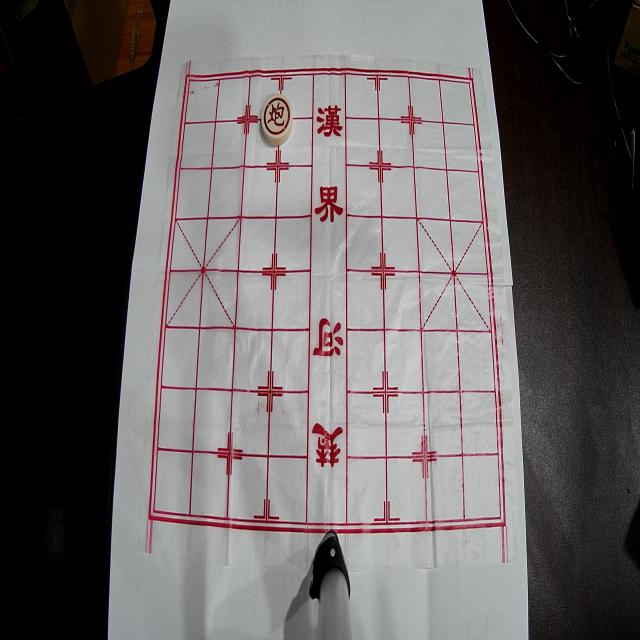red-cannon: (262, 94, 292, 146)
